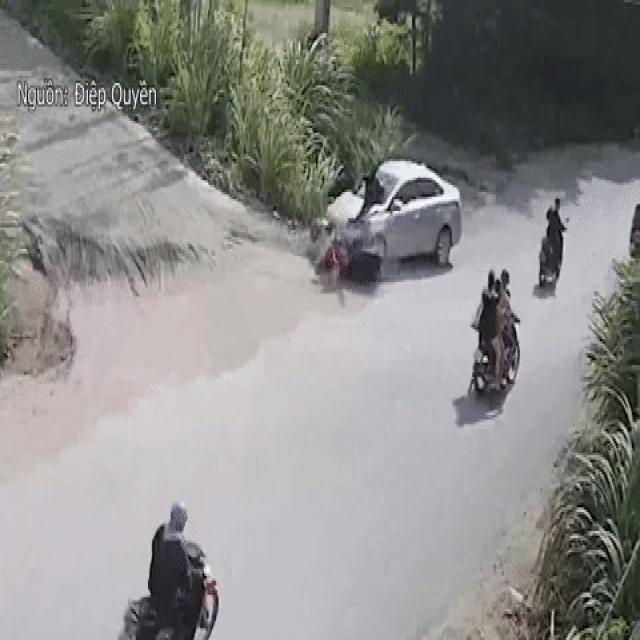multiple_accident: (307, 147, 465, 291)
normal: (464, 192, 573, 410)
